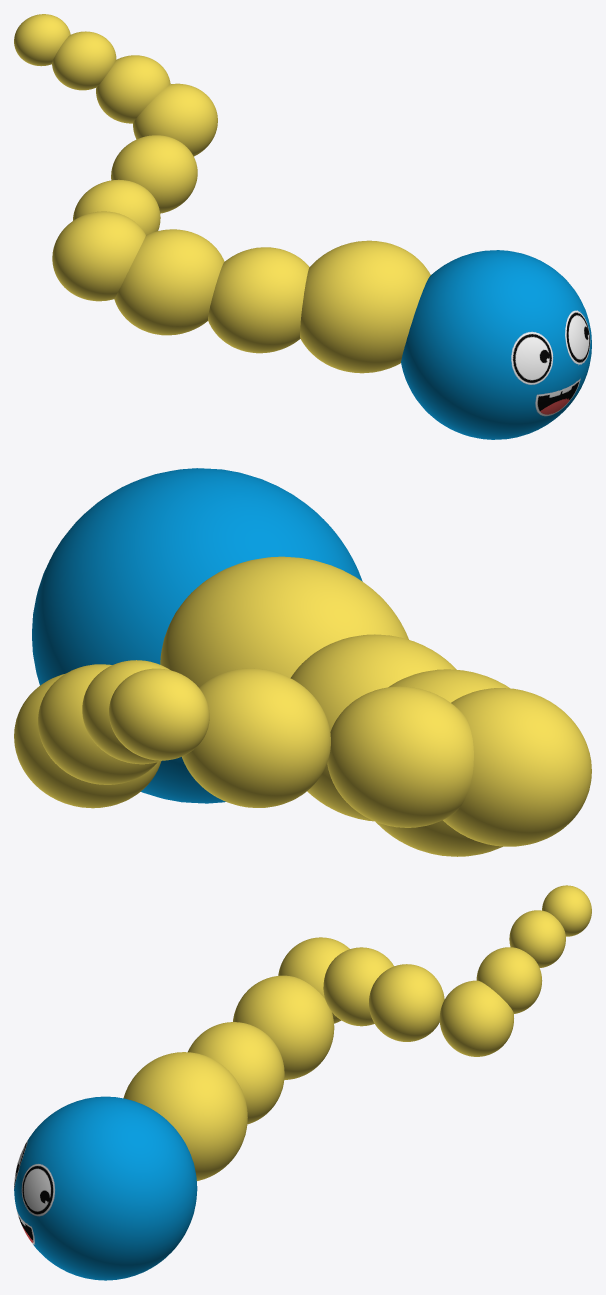
File: RareSkin.glb
3 renders of one model, top to bottom at view 1: azimuth 30°, elevation 25°; view 2: azimuth 150°, elevation 25°; view 3: azimuth 270°, elevation 25°, orthographic. The views are drawn at different scales.
Visible parts, largest first — view 1: mesh_id50, mesh_id52, mesh_id53, mesh_id54, mesh_id55, mesh_id61, mesh_id62, mesh_id63, mesh_id64, mesh_id60, mesh_id65; view 2: mesh_id50, mesh_id52, mesh_id55, mesh_id60, mesh_id61, mesh_id53, mesh_id65, mesh_id63, mesh_id62, mesh_id54, mesh_id64; view 3: mesh_id50, mesh_id52, mesh_id54, mesh_id53, mesh_id61, mesh_id62, mesh_id60, mesh_id63, mesh_id64, mesh_id55, mesh_id65.
Boxes of the visible parts, <box> form: mesh_id50: <box>401,250,591,439</box>; mesh_id52: <box>300,240,430,373</box>; mesh_id53: <box>208,247,309,353</box>; mesh_id54: <box>114,229,224,335</box>; mesh_id55: <box>52,211,145,301</box>; mesh_id61: <box>111,135,197,213</box>; mesh_id62: <box>133,83,217,156</box>; mesh_id63: <box>96,55,170,123</box>; mesh_id64: <box>52,31,116,90</box>; mesh_id60: <box>73,179,160,234</box>; mesh_id65: <box>14,14,70,66</box>; mesh_id50: <box>32,468,362,803</box>; mesh_id52: <box>160,556,408,687</box>; mesh_id55: <box>443,688,591,846</box>; mesh_id60: <box>327,686,473,827</box>; mesh_id61: <box>182,668,330,807</box>; mesh_id53: <box>290,634,456,821</box>; mesh_id65: <box>109,668,209,760</box>; mesh_id63: <box>38,664,157,784</box>; mesh_id62: <box>14,673,161,808</box>; mesh_id54: <box>376,669,509,856</box>; mesh_id64: <box>82,660,170,764</box>; mesh_id50: <box>14,1096,197,1280</box>; mesh_id52: <box>123,1052,247,1180</box>; mesh_id54: <box>233,975,334,1079</box>; mesh_id53: <box>188,1022,284,1124</box>; mesh_id61: <box>369,964,444,1041</box>; mesh_id62: <box>439,980,513,1056</box>; mesh_id60: <box>323,947,393,1026</box>; mesh_id63: <box>476,947,542,1013</box>; mesh_id64: <box>509,910,565,967</box>; mesh_id55: <box>278,937,349,1023</box>; mesh_id65: <box>542,885,591,936</box>.
Bounding box in the file's own units: 0.8779 × 0.5965 × 1.11.
Materials: 6 (1 with a texture image).
